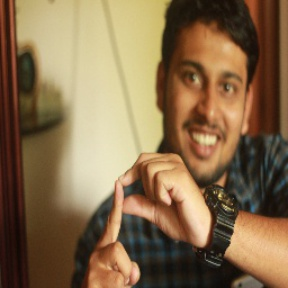P: (79, 149, 201, 288)
